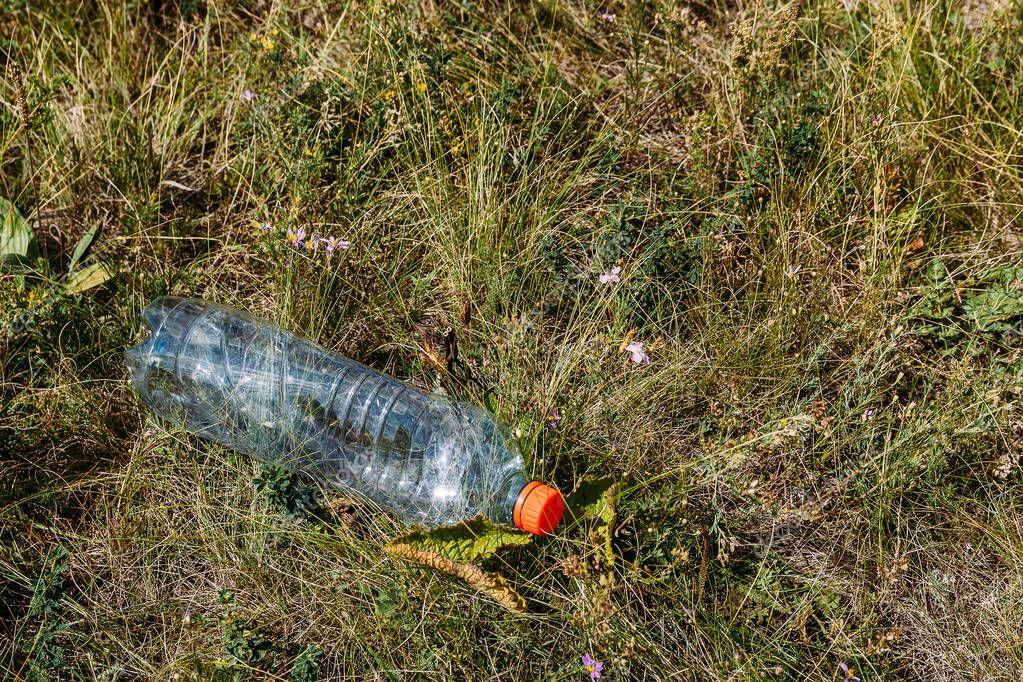bottle: (117, 280, 580, 552)
